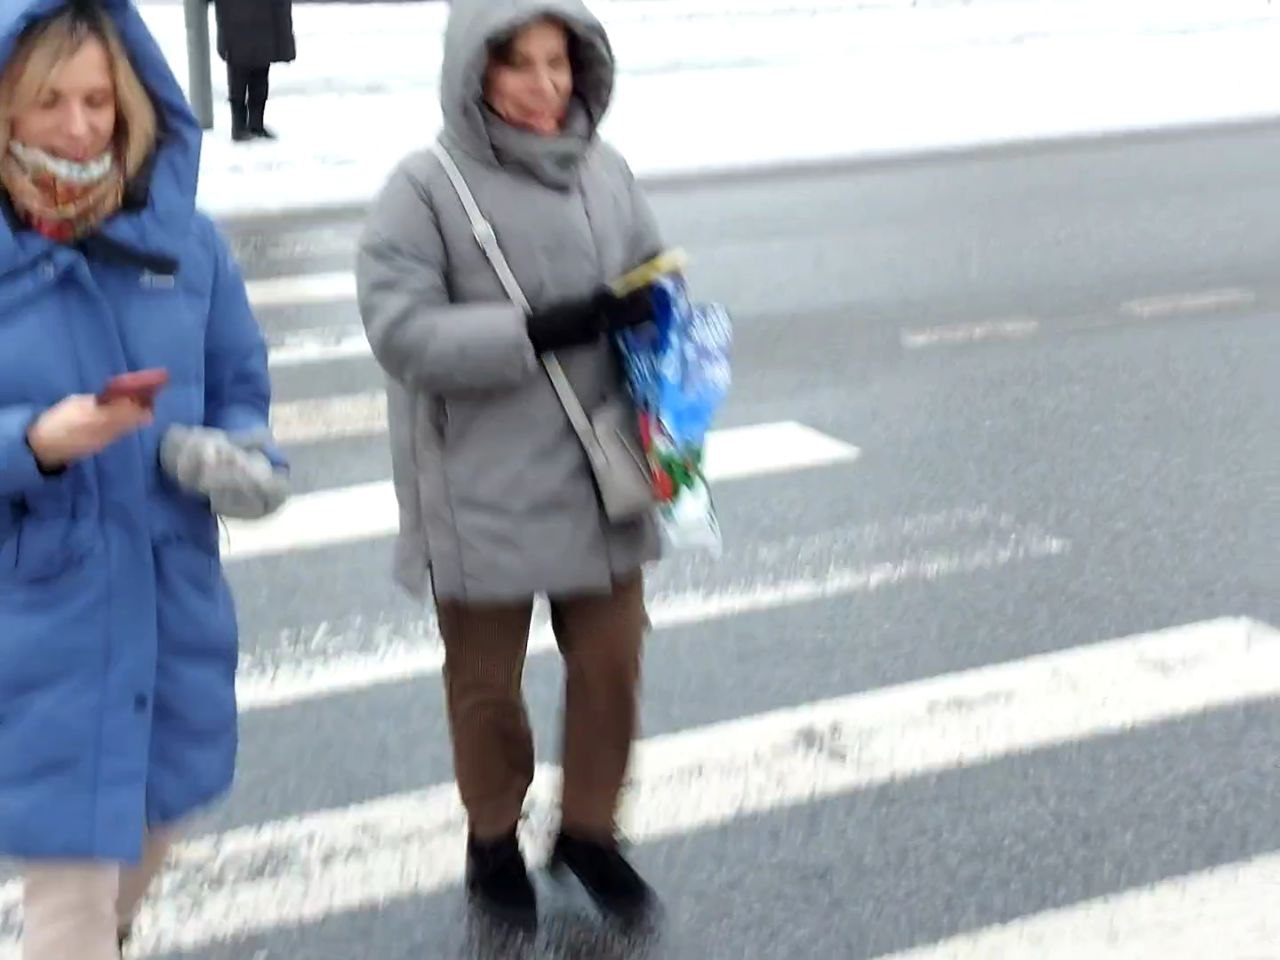sombie: (353, 1, 750, 928), (2, 1, 298, 960)
